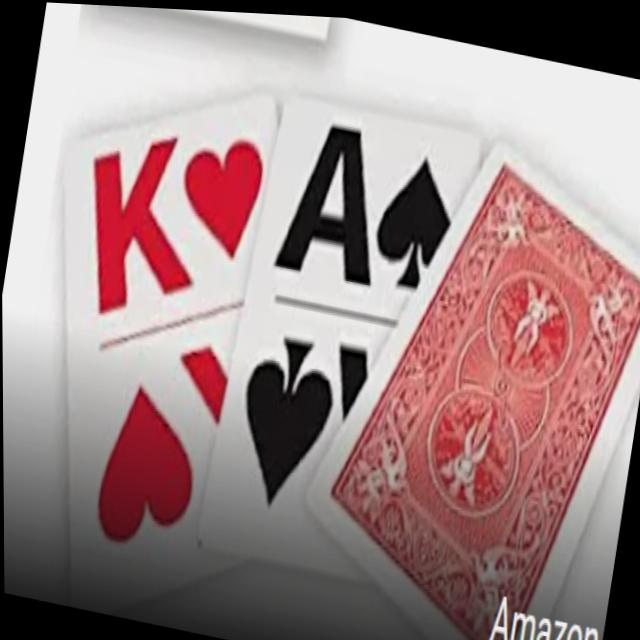Card-A: (199, 97, 481, 570)
Card-K: (67, 89, 277, 601)
